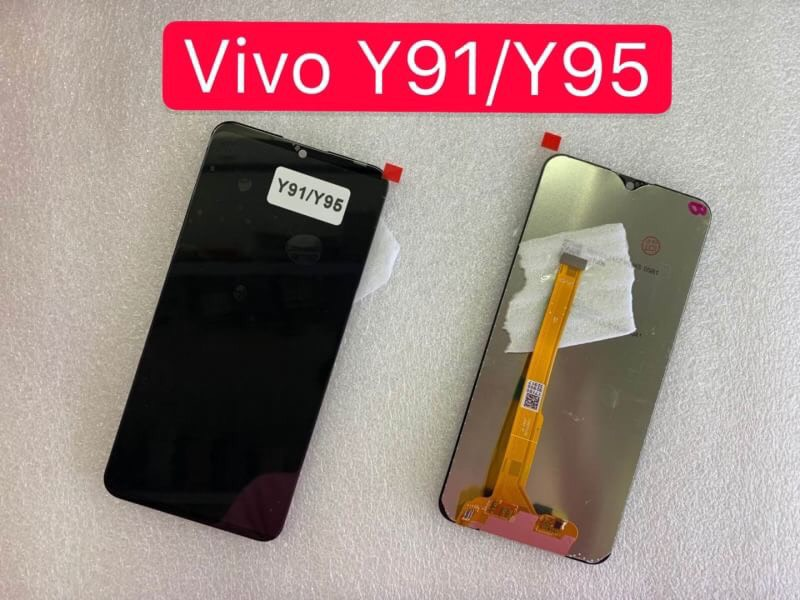Phone: (101, 117, 393, 550), (430, 151, 716, 566)
